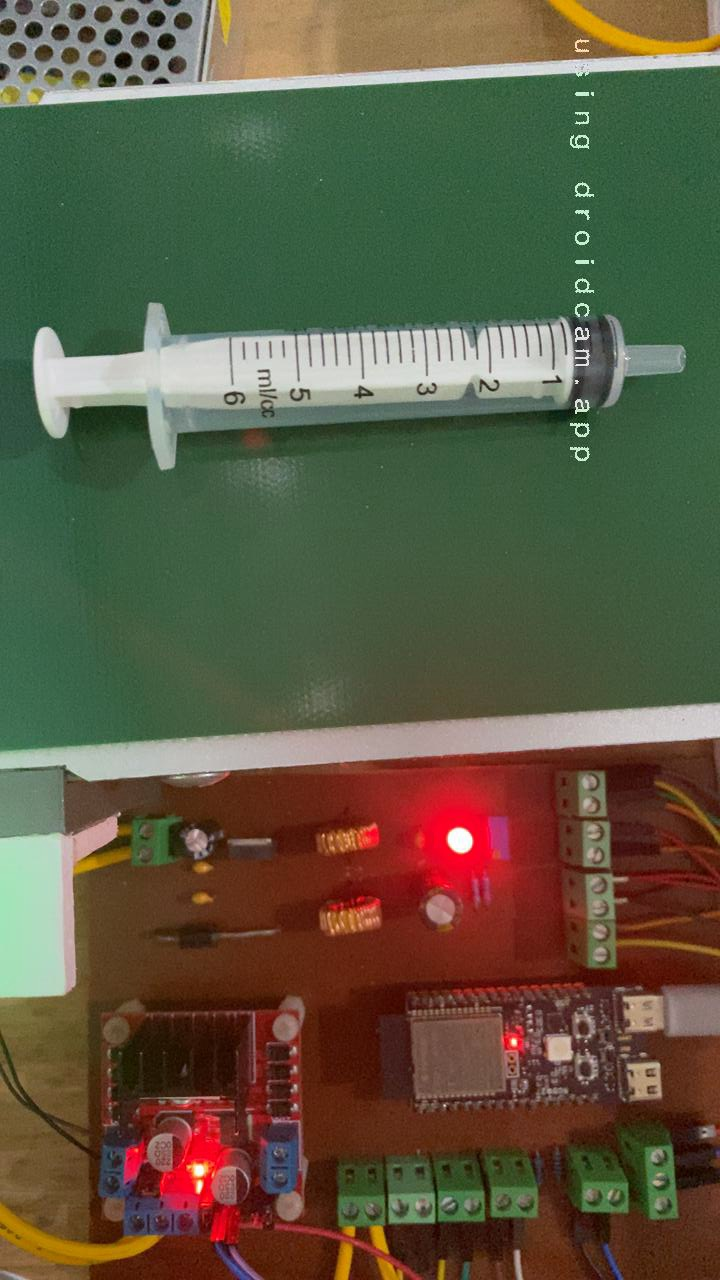syringe: (26, 297, 692, 478)
